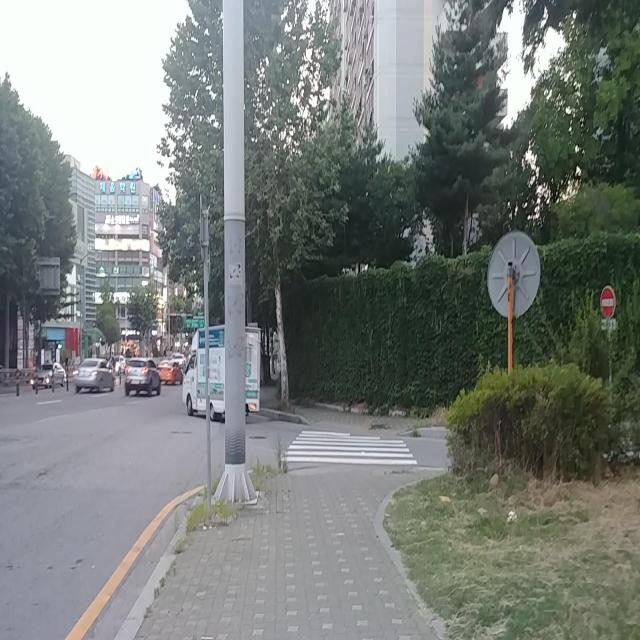횡단보도: (281, 429, 418, 467)
